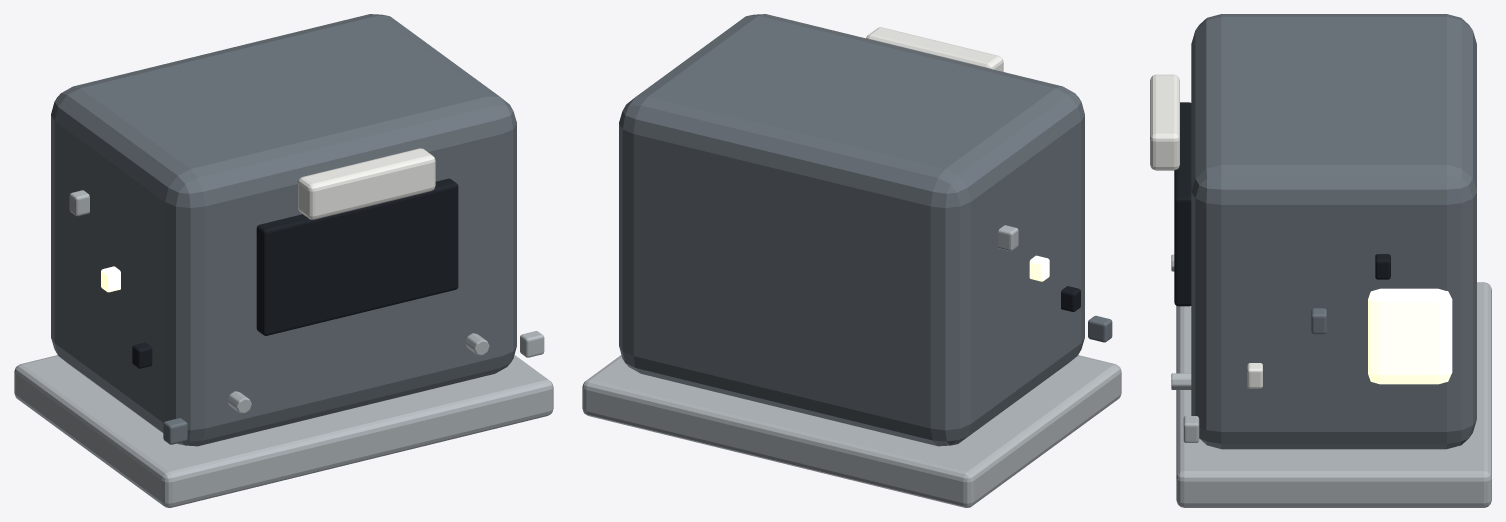
Rendered from prop_casino-strip-security-milk-crate-standard-032.glb.
3 views of the same model, side by side, from view 1: azimuth 30°, elevation 25°; view 2: azimuth 150°, elevation 25°; view 3: azimuth 270°, elevation 25° (orthographic). The views are drawn at different scales.
Visible parts, largest first — view 1: component__object_specific_primary_body__primary_body, component__support_or_contact_structure__support, component__functional_opening_or_access__opening, component__handle_control_or_closure__handle; view 2: component__object_specific_primary_body__primary_body, component__support_or_contact_structure__support, component__handle_control_or_closure__handle; view 3: component__object_specific_primary_body__primary_body, component__support_or_contact_structure__support, component__secondary_functional_assembly__secondary_assembly, component__functional_opening_or_access__opening, component__handle_control_or_closure__handle, component__support_or_contact_structure__qa_component_01, component__fasteners_and_seams__qa_component_05, component__interaction_or_inventory_socket__qa_component_07, component__handle_control_or_closure__qa_component_03.
Boxes of the visible parts, x1=… form: component__object_specific_primary_body__primary_body: x1=51, y1=14, x2=516, y2=446; component__support_or_contact_structure__support: x1=14, y1=355, x2=553, y2=507; component__functional_opening_or_access__opening: x1=256, y1=178, x2=458, y2=335; component__handle_control_or_closure__handle: x1=298, y1=148, x2=435, y2=219; component__object_specific_primary_body__primary_body: x1=619, y1=14, x2=1084, y2=446; component__support_or_contact_structure__support: x1=582, y1=355, x2=1121, y2=507; component__handle_control_or_closure__handle: x1=866, y1=27, x2=1003, y2=71; component__object_specific_primary_body__primary_body: x1=1191, y1=14, x2=1476, y2=449; component__support_or_contact_structure__support: x1=1176, y1=282, x2=1491, y2=507; component__secondary_functional_assembly__secondary_assembly: x1=1368, y1=288, x2=1452, y2=384; component__functional_opening_or_access__opening: x1=1174, y1=102, x2=1191, y2=306; component__handle_control_or_closure__handle: x1=1150, y1=74, x2=1179, y2=170; component__support_or_contact_structure__qa_component_01: x1=1183, y1=416, x2=1199, y2=442; component__fasteners_and_seams__qa_component_05: x1=1311, y1=308, x2=1326, y2=334; component__interaction_or_inventory_socket__qa_component_07: x1=1375, y1=254, x2=1390, y2=279; component__handle_control_or_closure__qa_component_03: x1=1247, y1=363, x2=1262, y2=388.
Size of the model in its own units: 0.736 by 0.568 by 0.546.
